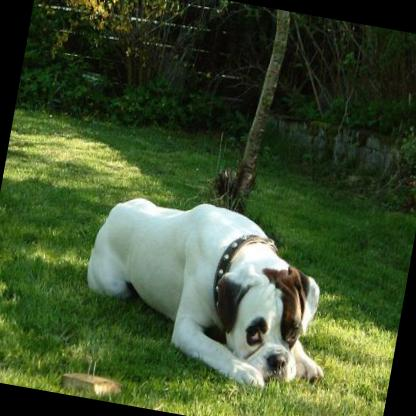boxer: (66, 181, 348, 401)
